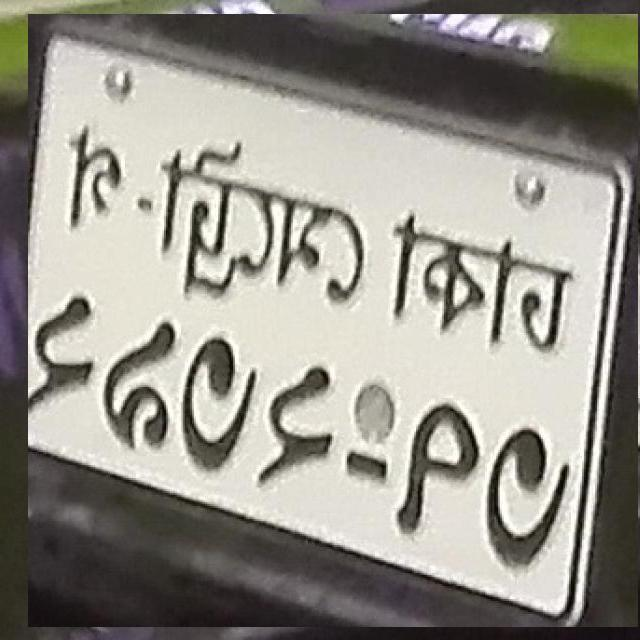numberplate: (28, 14, 638, 627)
